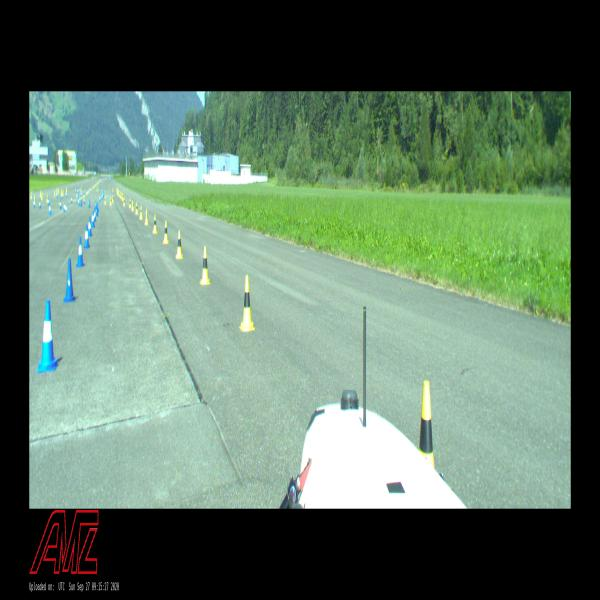blue_cone: (37, 300, 59, 372), (64, 258, 75, 302), (76, 236, 84, 267), (84, 225, 90, 248), (89, 217, 92, 236), (92, 211, 94, 227), (94, 209, 96, 222), (49, 204, 51, 214), (78, 198, 80, 206), (39, 201, 41, 208), (33, 201, 35, 207), (60, 201, 61, 209), (64, 203, 65, 210), (71, 196, 72, 203), (89, 201, 90, 207), (84, 198, 85, 204), (81, 201, 82, 206)
yellow_cone: (419, 381, 434, 469), (239, 275, 255, 331), (200, 246, 210, 284), (176, 230, 183, 259), (163, 221, 169, 243), (153, 215, 158, 234), (144, 209, 148, 225), (139, 206, 143, 219), (135, 202, 138, 215), (123, 198, 126, 206), (109, 197, 112, 205), (132, 200, 134, 211), (129, 198, 131, 208), (112, 195, 114, 202)
